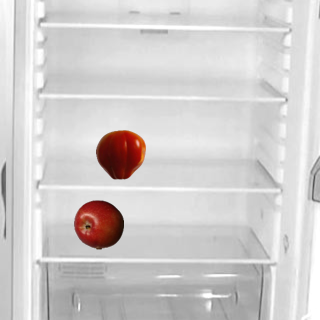Apple Braeburn: (73, 199, 123, 249)
Tomato 1: (95, 129, 145, 179)
